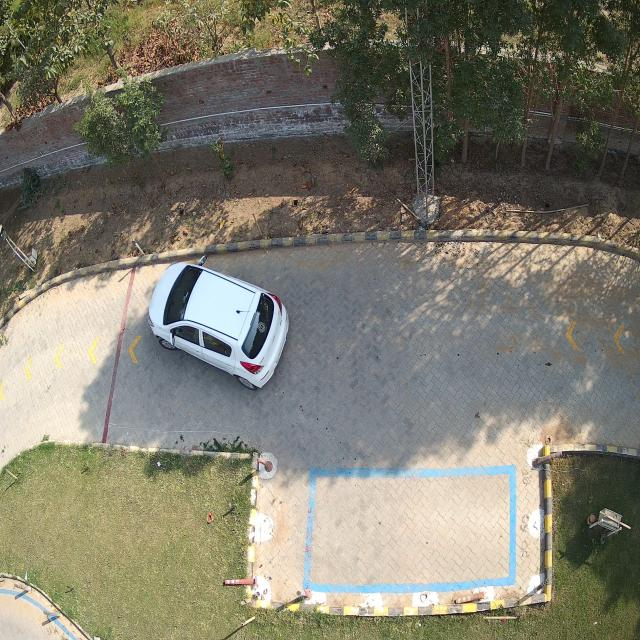car: (148, 258, 289, 388)
